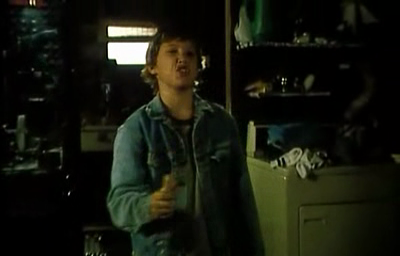face: (163, 41, 197, 85)
ms: (1, 1, 400, 256)
person: (106, 26, 247, 256)
